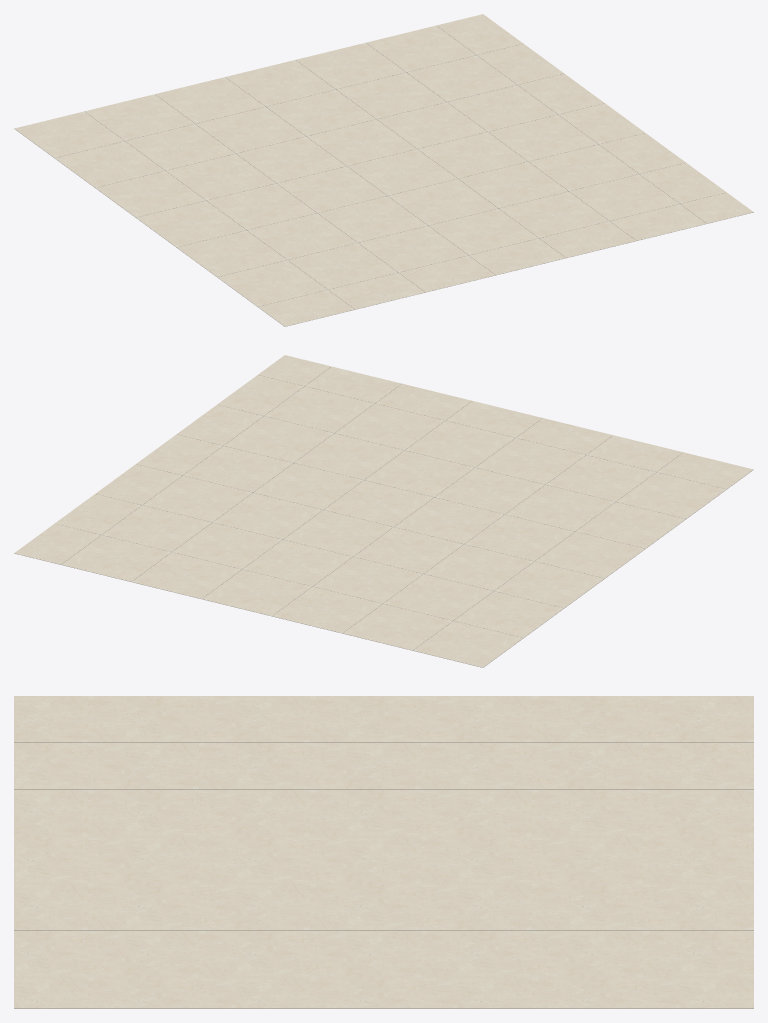
The model's file is ivory-velvet-120x120.glb.
3 views of the same model, one above another, from view 1: azimuth 30°, elevation 25°; view 2: azimuth 150°, elevation 25°; view 3: azimuth 270°, elevation 25° (orthographic). The views are drawn at different scales.
Visible parts, largest first — view 1: Ivory Velvet; view 2: Ivory Velvet; view 3: Ivory Velvet.
Part boxes in pixels (x1,y1,x2,y2): Ivory Velvet: [14, 14, 753, 326]; Ivory Velvet: [14, 355, 753, 667]; Ivory Velvet: [14, 696, 753, 1008].
Bounding box in the file's own units: 8 × 0.003 × 8.
Materials: 2 (1 with a texture image).
